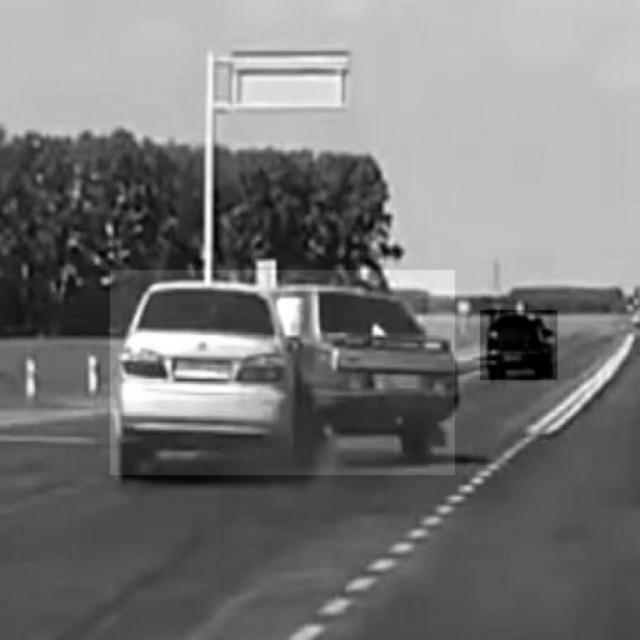accident: (110, 270, 456, 475)
vehicle: (480, 310, 558, 380)
